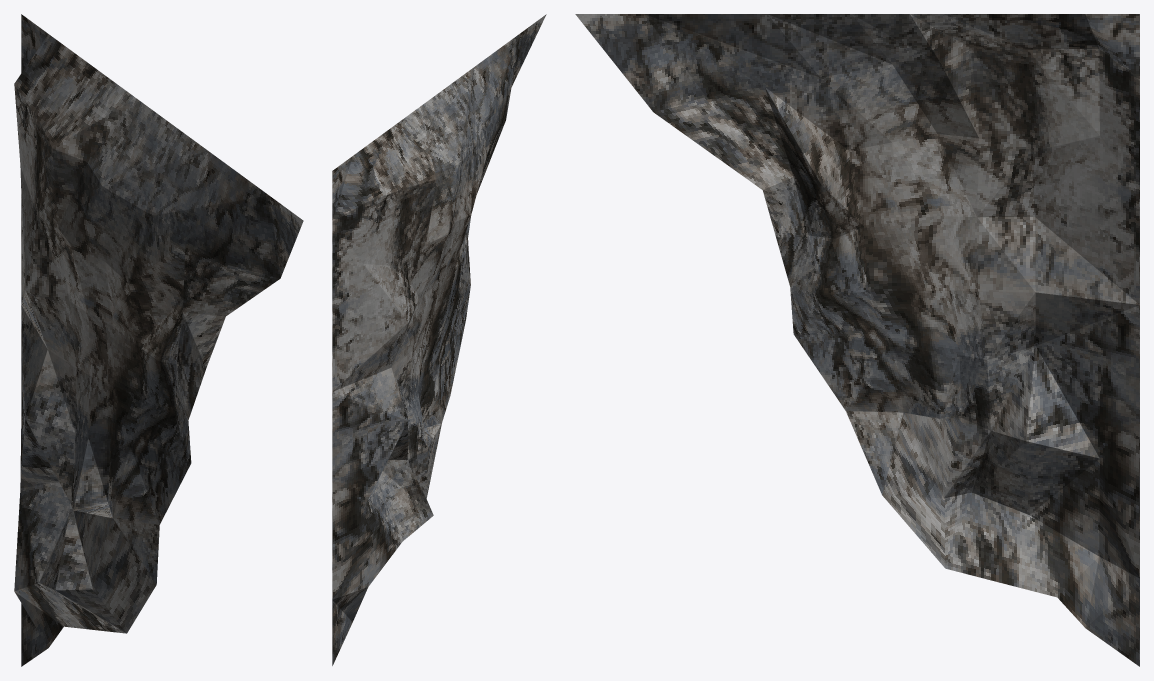
File: wallTop_02_end.glb
3 renders of one model, left to right at view 1: azimuth 30°, elevation 25°; view 2: azimuth 150°, elevation 25°; view 3: azimuth 270°, elevation 25°, orthographic. The views are drawn at different scales.
Visible parts, largest first — view 1: wallTop_02_end; view 2: wallTop_02_end; view 3: wallTop_02_end.
Part boxes in pixels (x1,y1,x2,y2): wallTop_02_end: [14, 14, 303, 666]; wallTop_02_end: [332, 14, 546, 665]; wallTop_02_end: [575, 14, 1139, 666].
Size of the model in its own units: 1.99 by 17.95 by 14.07.
1 material, 1 textured.
